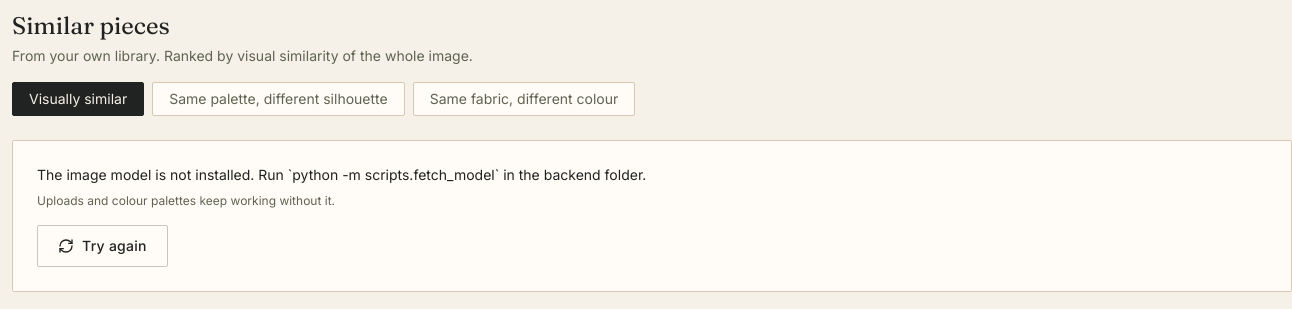
SimilarPieces › explains a missing image model and can retry
This screenshot has width=1292, height=309.
Expected: the message shows "fetch_model", x1=37 y1=166 x2=646 y2=183
Expected: the text "Uploads and colour palettes keep working without it." is shown, x1=37 y1=193 x2=335 y2=208
Click the button "Try again" at (102, 246), box x1=37 y1=225 x2=168 y2=267
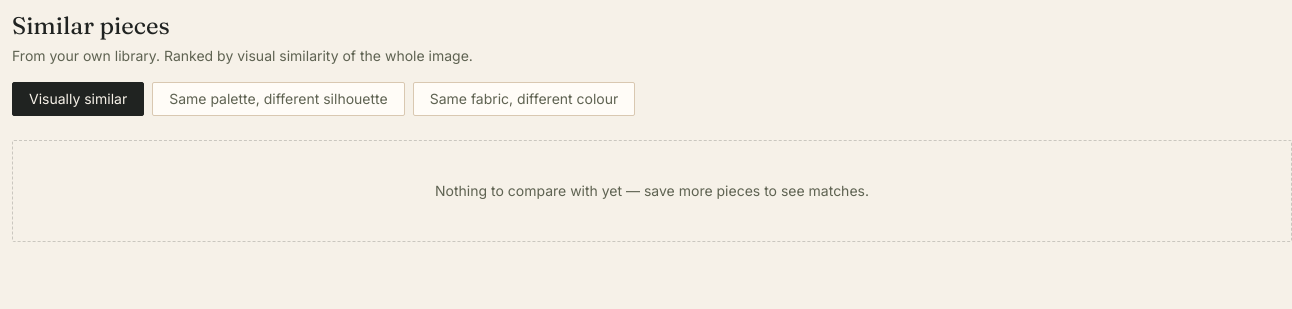
Expected: the text "Nothing to compare with yet" is shown, x1=435 y1=182 x2=869 y2=199
